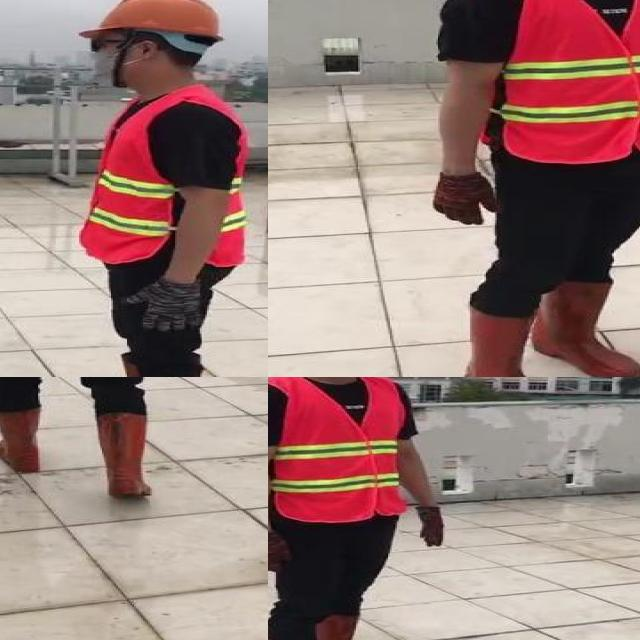boots: (534, 280, 640, 377), (459, 304, 569, 377), (93, 411, 163, 497), (0, 404, 46, 474), (315, 615, 381, 640)
face_mask: (78, 29, 153, 89)
hand_glove: (125, 279, 203, 333), (431, 175, 500, 225), (415, 507, 450, 549), (268, 533, 295, 572)
head_helmet: (71, 0, 231, 47)
person: (20, 0, 256, 377), (423, 0, 640, 377), (268, 377, 450, 640), (0, 377, 187, 506)
vest: (81, 86, 244, 271), (488, 0, 640, 165), (268, 377, 409, 521)
